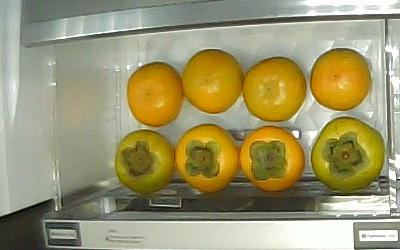persimmon: (311, 116, 385, 190), (174, 123, 237, 194), (239, 125, 304, 192), (242, 56, 306, 122), (310, 47, 371, 111), (182, 49, 242, 114), (115, 130, 174, 193), (127, 61, 182, 127)
